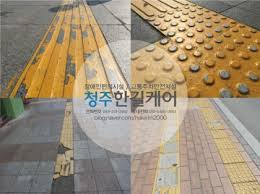guide_blocks: (11, 1, 122, 98), (204, 109, 238, 161), (57, 103, 74, 172), (226, 163, 260, 194)
